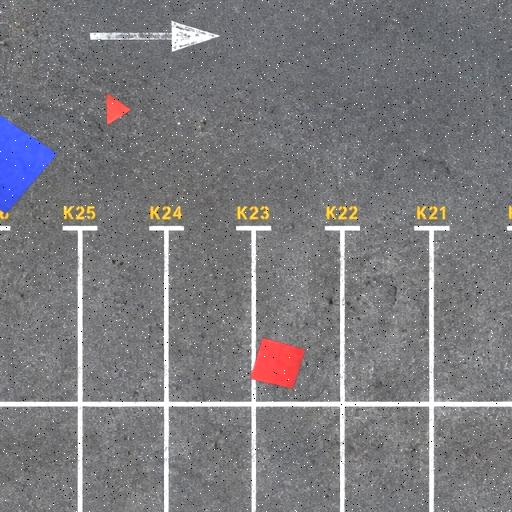BLUE_SQUARE: (0, 110, 58, 214)
RED_SQUARE: (249, 336, 306, 390)
